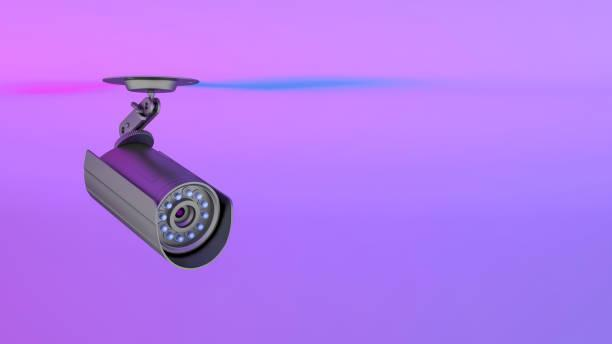camera: (71, 107, 245, 281)
